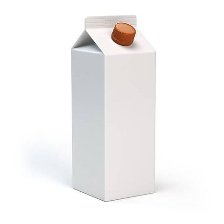carton: (62, 7, 169, 204)
